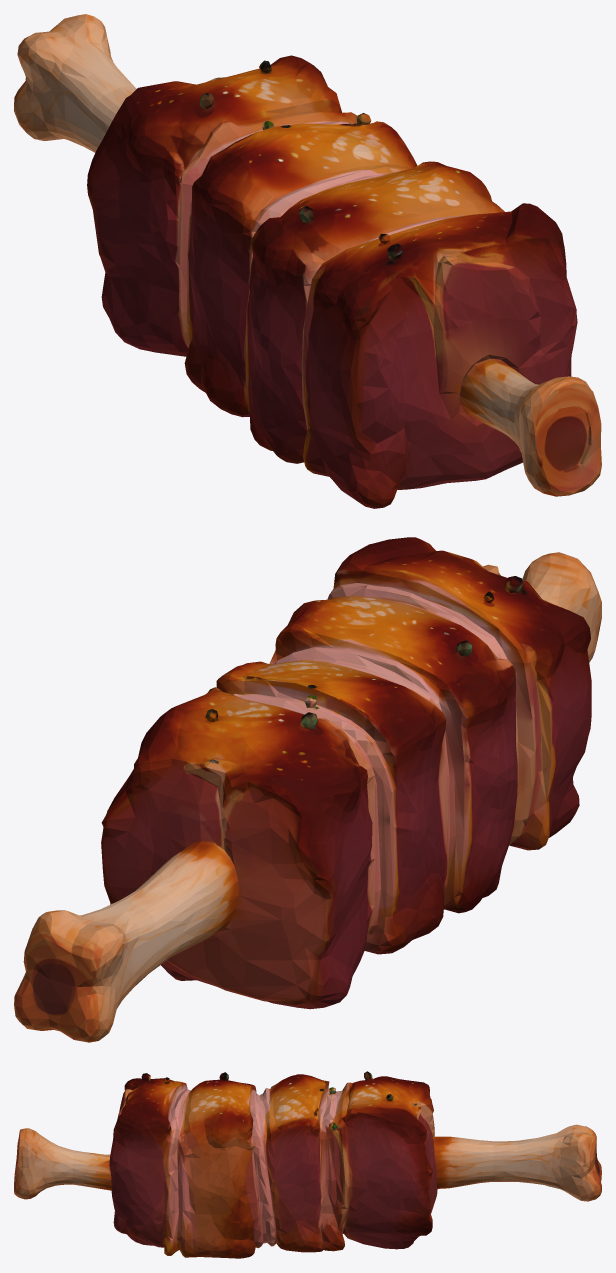
The model's file is KaoRou_01.fbx.
3 renders of one model, top to bottom at view 1: azimuth 30°, elevation 25°; view 2: azimuth 150°, elevation 25°; view 3: azimuth 270°, elevation 25°, orthographic. The views are drawn at different scales.
Visible parts, largest first — view 1: KaoRou_01; view 2: KaoRou_01; view 3: KaoRou_01.
Part boxes in pixels (bbox=[...]): KaoRou_01: bbox=[14, 14, 601, 508]; KaoRou_01: bbox=[14, 537, 601, 1042]; KaoRou_01: bbox=[14, 1071, 601, 1258].
Bounding box in the file's own units: 0.00529 × 0.00539 × 0.019.
Materials: 1 (1 with a texture image).
